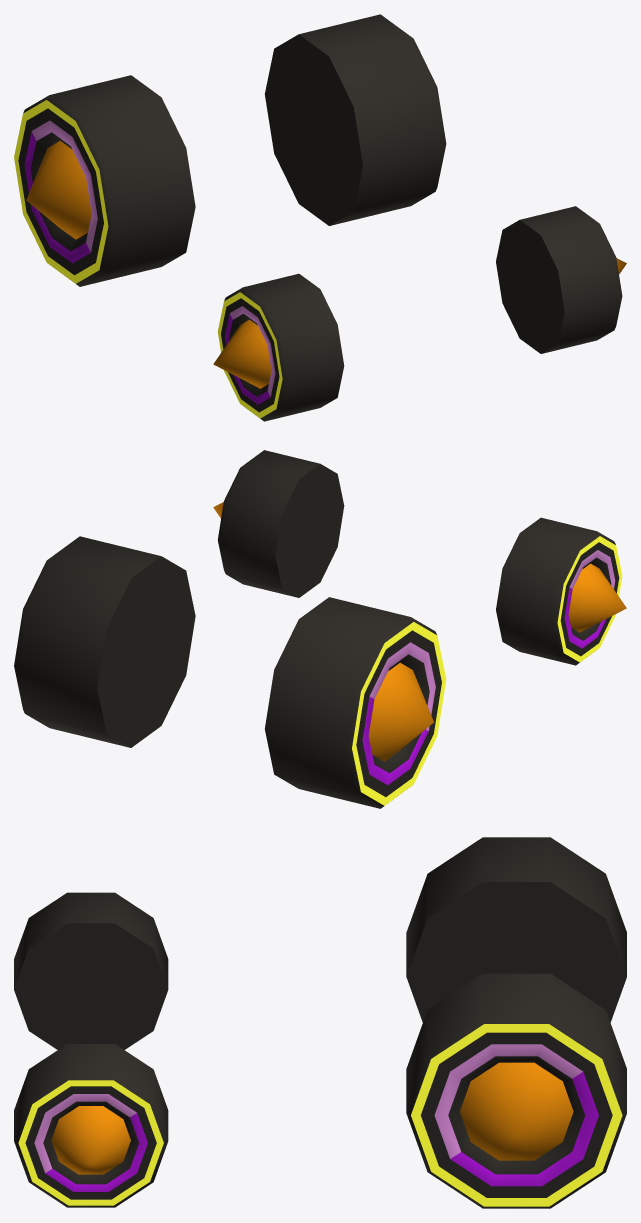
The model's file is LuxWheel00E01.gltf.
3 renders of one model, top to bottom at view 1: azimuth 30°, elevation 25°; view 2: azimuth 150°, elevation 25°; view 3: azimuth 270°, elevation 25°, orthographic. The views are drawn at different scales.
Parts seen in each view (by area): view 1: LuxWheel00E01; view 2: LuxWheel00E01; view 3: LuxWheel00E01.
Part boxes in pixels (x1,y1,x2,y2): LuxWheel00E01: (14, 14, 626, 421); LuxWheel00E01: (14, 450, 626, 808); LuxWheel00E01: (14, 837, 626, 1208).
Size of the model in its own units: 0.2379 by 0.0932 by 0.2723.
